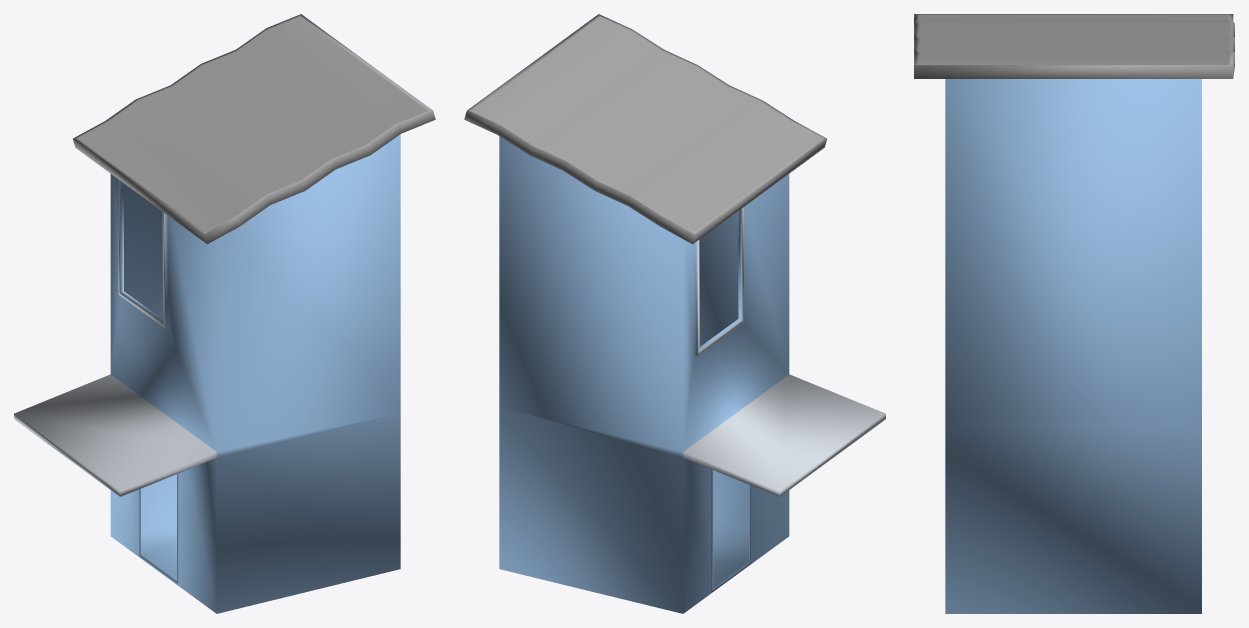
The model's file is house1.glb.
The picture shows the model from 3 angles, left to right: view 1: azimuth 30°, elevation 25°; view 2: azimuth 150°, elevation 25°; view 3: azimuth 270°, elevation 25°; orthographic projection. The views are drawn at different scales.
Parts seen in each view (by area): view 1: Cube, Cube.001; view 2: Cube, Cube.001; view 3: Cube, Cube.001.
Boxes of the visible parts, left/top/right/bottom form: Cube: left=14, top=134, right=400, bottom=613; Cube.001: left=73, top=14, right=435, bottom=244; Cube: left=499, top=136, right=885, bottom=613; Cube.001: left=464, top=14, right=826, bottom=244; Cube: left=945, top=79, right=1201, bottom=613; Cube.001: left=914, top=14, right=1234, bottom=78.
Bounding box in the file's own units: 4.2 × 6.14 × 3.19.
